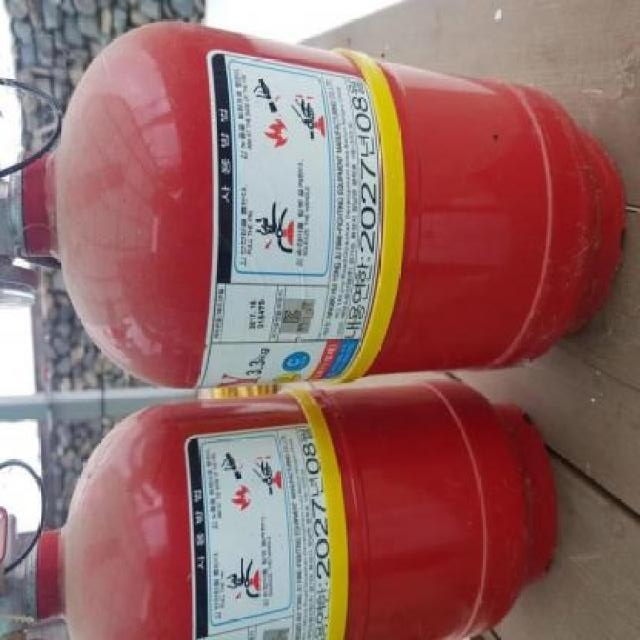fire extinguisher: (0, 22, 626, 390), (0, 379, 558, 640)
